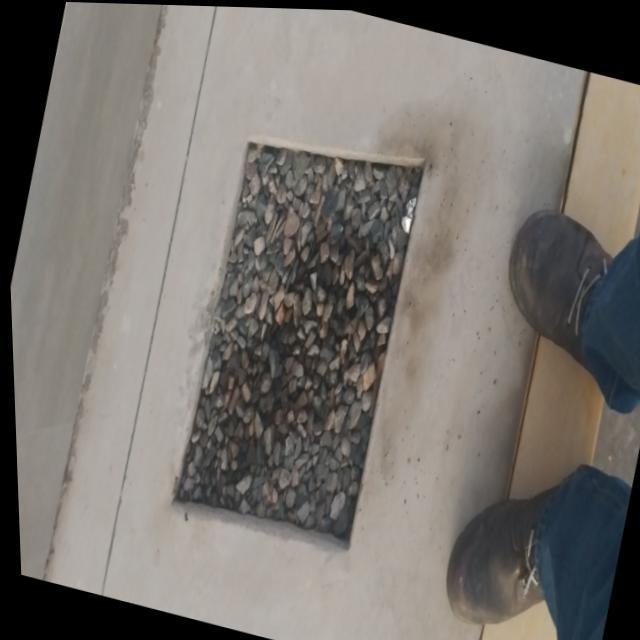hole: (167, 122, 437, 568)
